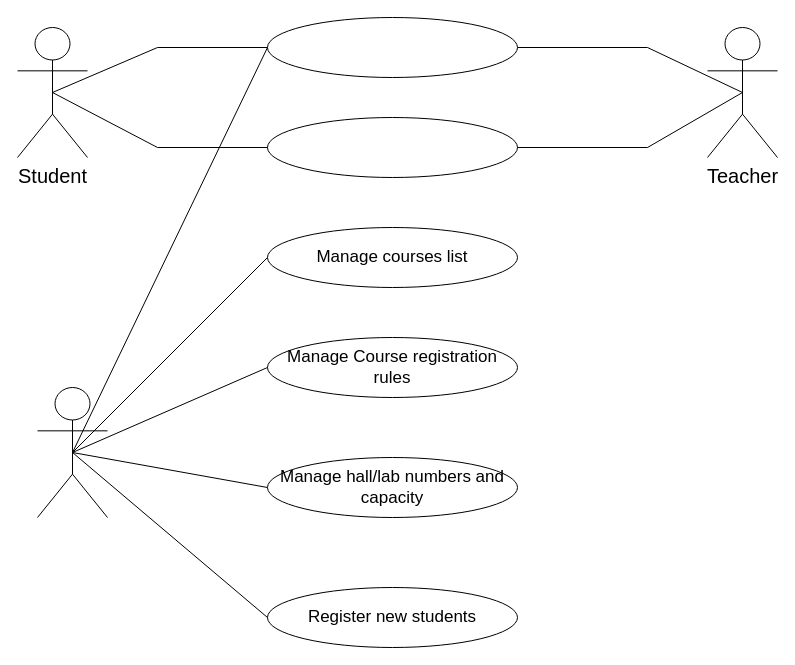
This 795x665 diagram has some shape labels left out. Each missing label, with the centre of its shape:
"Admin" goes at (72,452).
"Sign In" goes at (392,47).
"View Timetable" goes at (392,147).
